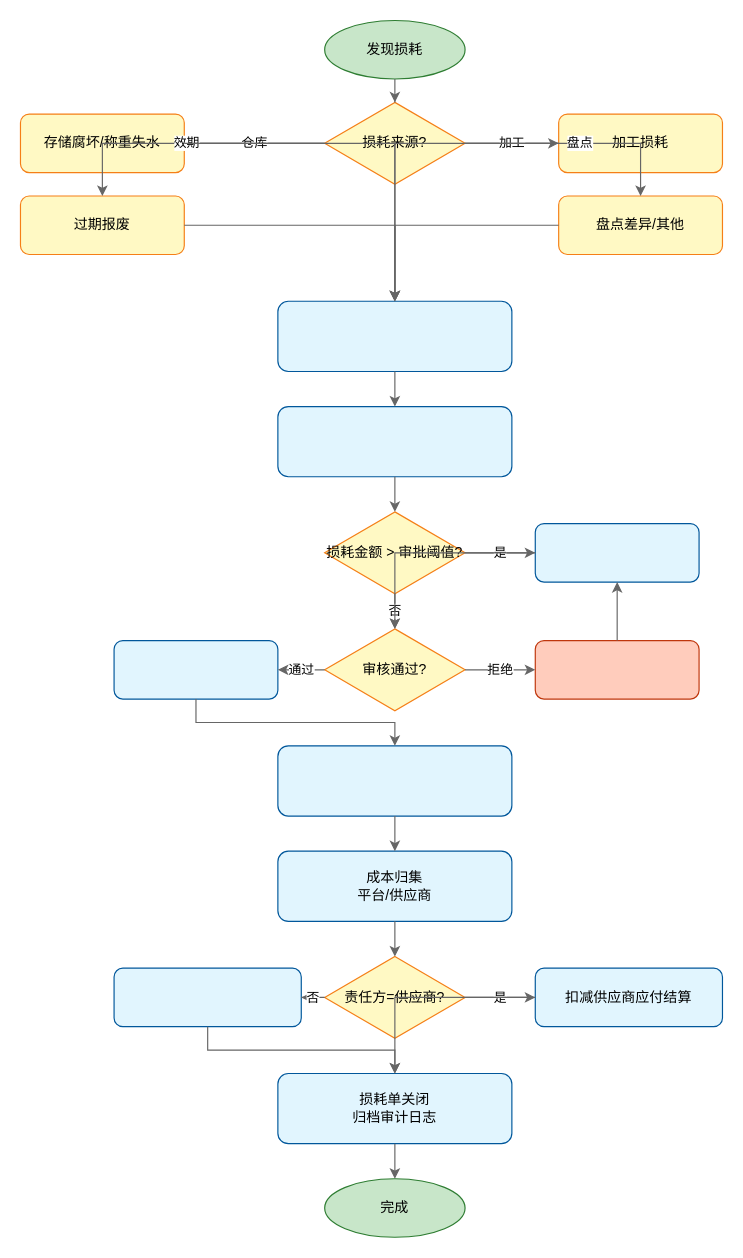
Some shapes in this 743 by 1258 pixel diagram are drawn without their labels. The centre of each missing label's shape, as x and y in pixels:
"创建损耗单 关联仓库/SKU/类型/数量/原因/凭证" belongs at (394,335).
"扣减仓库库存 记录库存变动日志" belongs at (394,780).
"提交审核 运营经理审核" belongs at (616,552).
"直接执行" belongs at (195,669).
"系统自动计算损耗金额 数量 x SKU 成本价" belongs at (394,441).
"计入平台损耗成本" belongs at (207,997).
"退回修改/关闭" belongs at (616,669).
